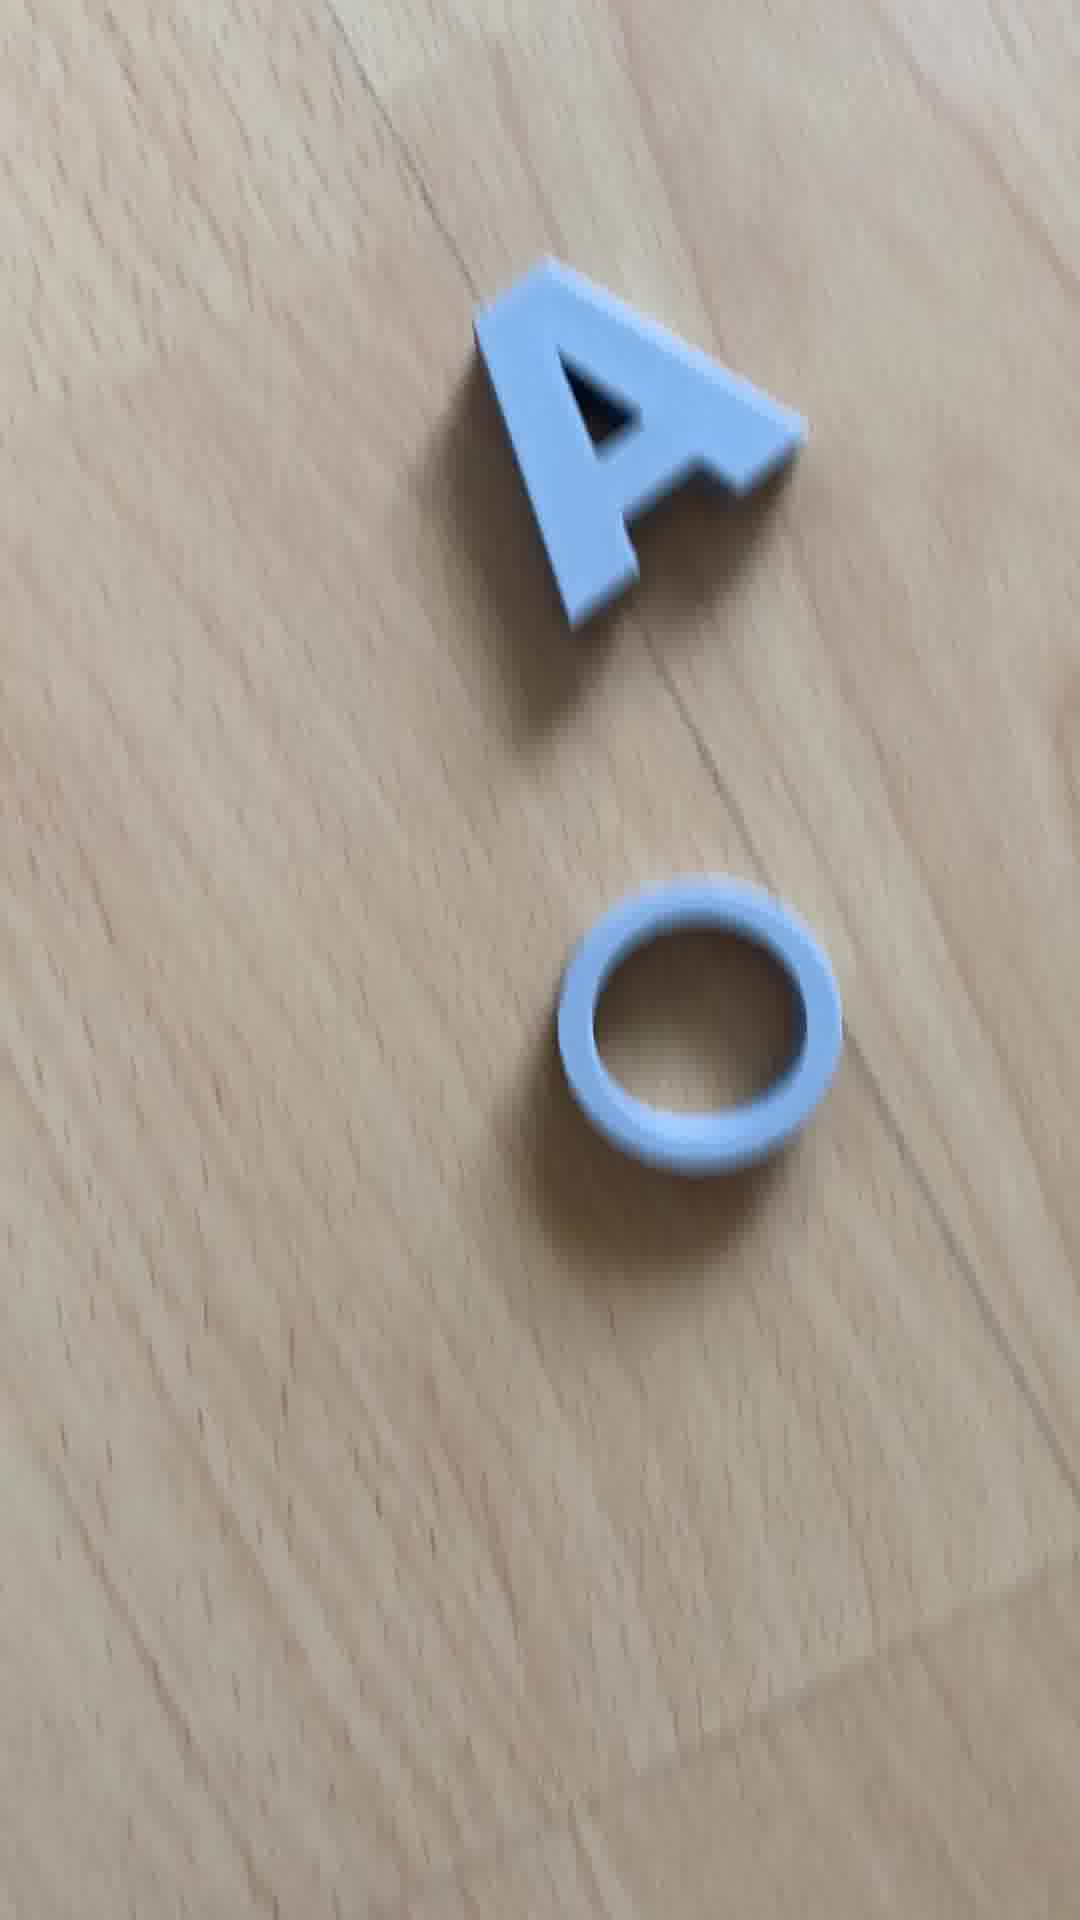Gray A-letter: (447, 233, 814, 622)
Gray ring: (530, 872, 858, 1168)
